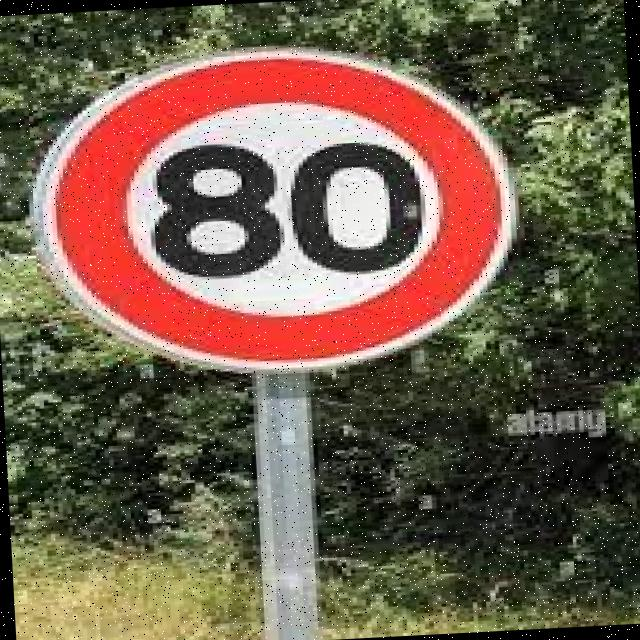speed_limit_80: (19, 32, 550, 389)
